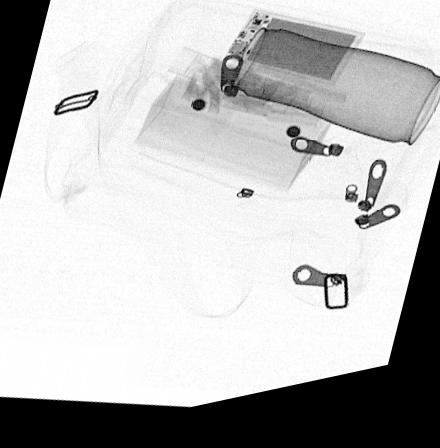Powerbank: (223, 18, 364, 100)
